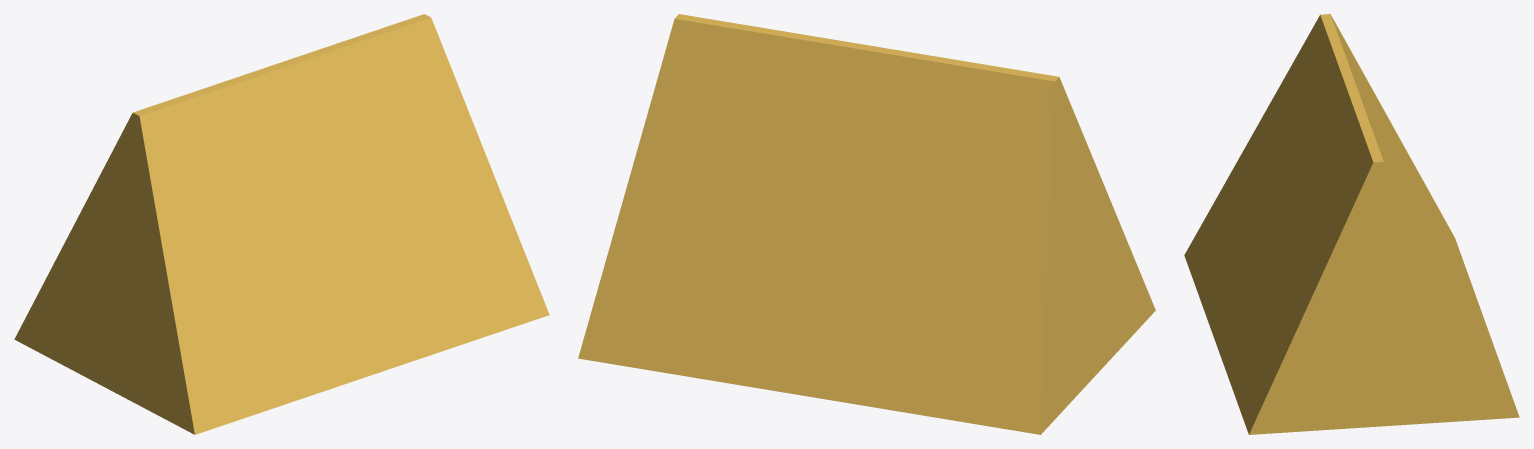
Rendered from tent.fbx.
3 views of the same model, side by side, from view 1: azimuth 30°, elevation 25°; view 2: azimuth 150°, elevation 25°; view 3: azimuth 270°, elevation 25° (orthographic). The views are drawn at different scales.
Visible parts, largest first — view 1: Cube.002; view 2: Cube.002; view 3: Cube.002.
Boxes of the visible parts, bbox=[...] form: Cube.002: bbox=[14, 14, 549, 434]; Cube.002: bbox=[578, 14, 1155, 434]; Cube.002: bbox=[1184, 14, 1519, 434].
Bounding box in the file's own units: 613 × 360 × 441.
